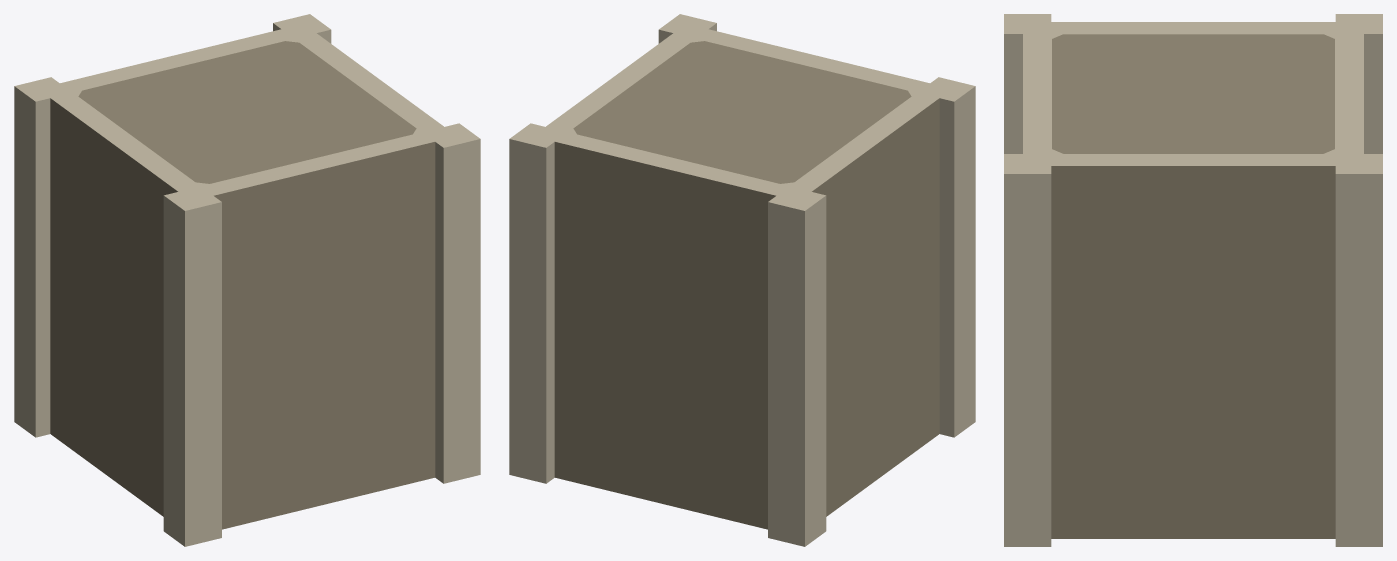
The model's file is towerSquareMid.glb.
3 renders of one model, left to right at view 1: azimuth 30°, elevation 25°; view 2: azimuth 150°, elevation 25°; view 3: azimuth 270°, elevation 25°, orthographic. The views are drawn at different scales.
Parts seen in each view (by area): view 1: mesh_1, mesh_0; view 2: mesh_1, mesh_0; view 3: mesh_1, mesh_0.
Part boxes in pixels (bbox=[...]): mesh_1: bbox=[50, 41, 435, 529]; mesh_0: bbox=[14, 14, 480, 546]; mesh_1: bbox=[554, 41, 939, 529]; mesh_0: bbox=[509, 14, 975, 546]; mesh_1: bbox=[1051, 34, 1335, 538]; mesh_0: bbox=[1004, 14, 1382, 546].
Bounding box in the file's own units: 9.3 × 10.1 × 9.3.
